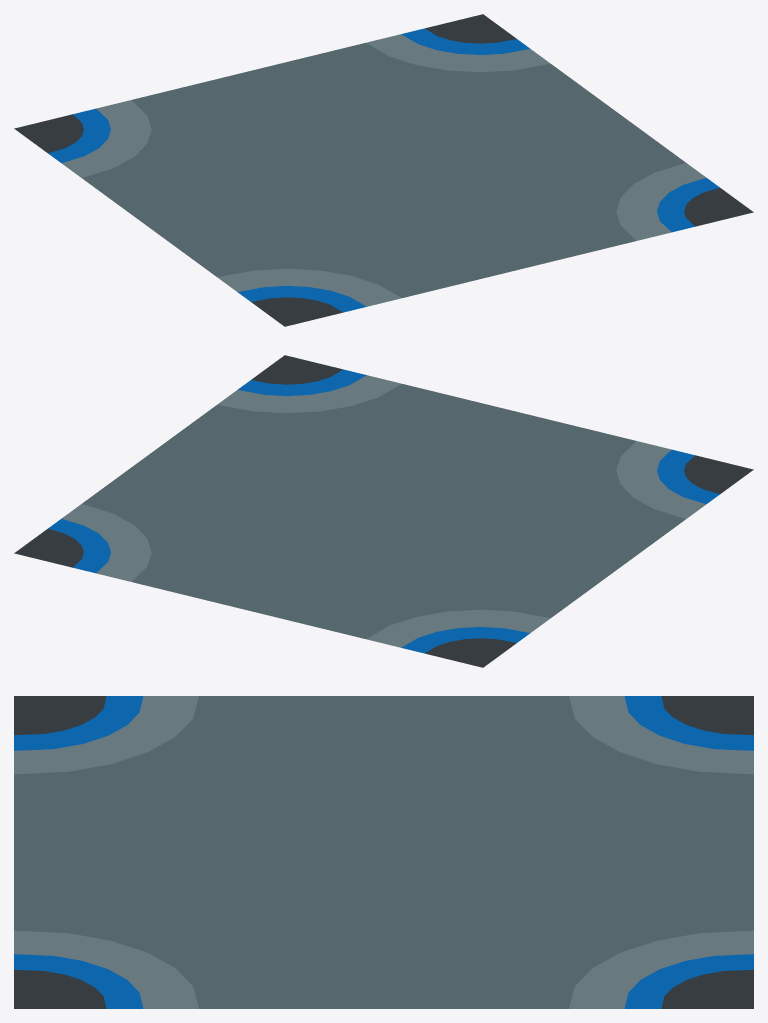
Rendered from Ceiling_type_C_022.fbx.
3 views of the same model, one above another, from view 1: azimuth 30°, elevation 25°; view 2: azimuth 150°, elevation 25°; view 3: azimuth 270°, elevation 25° (orthographic). The views are drawn at different scales.
Parts seen in each view (by area): view 1: Ceiling_type_C_022; view 2: Ceiling_type_C_022; view 3: Ceiling_type_C_022.
Part boxes in pixels (x1,y1,x2,y2): Ceiling_type_C_022: (14, 14, 753, 326); Ceiling_type_C_022: (14, 355, 753, 667); Ceiling_type_C_022: (14, 696, 753, 1008).
Size of the model in its own units: 400 by 400 by 5.66.
